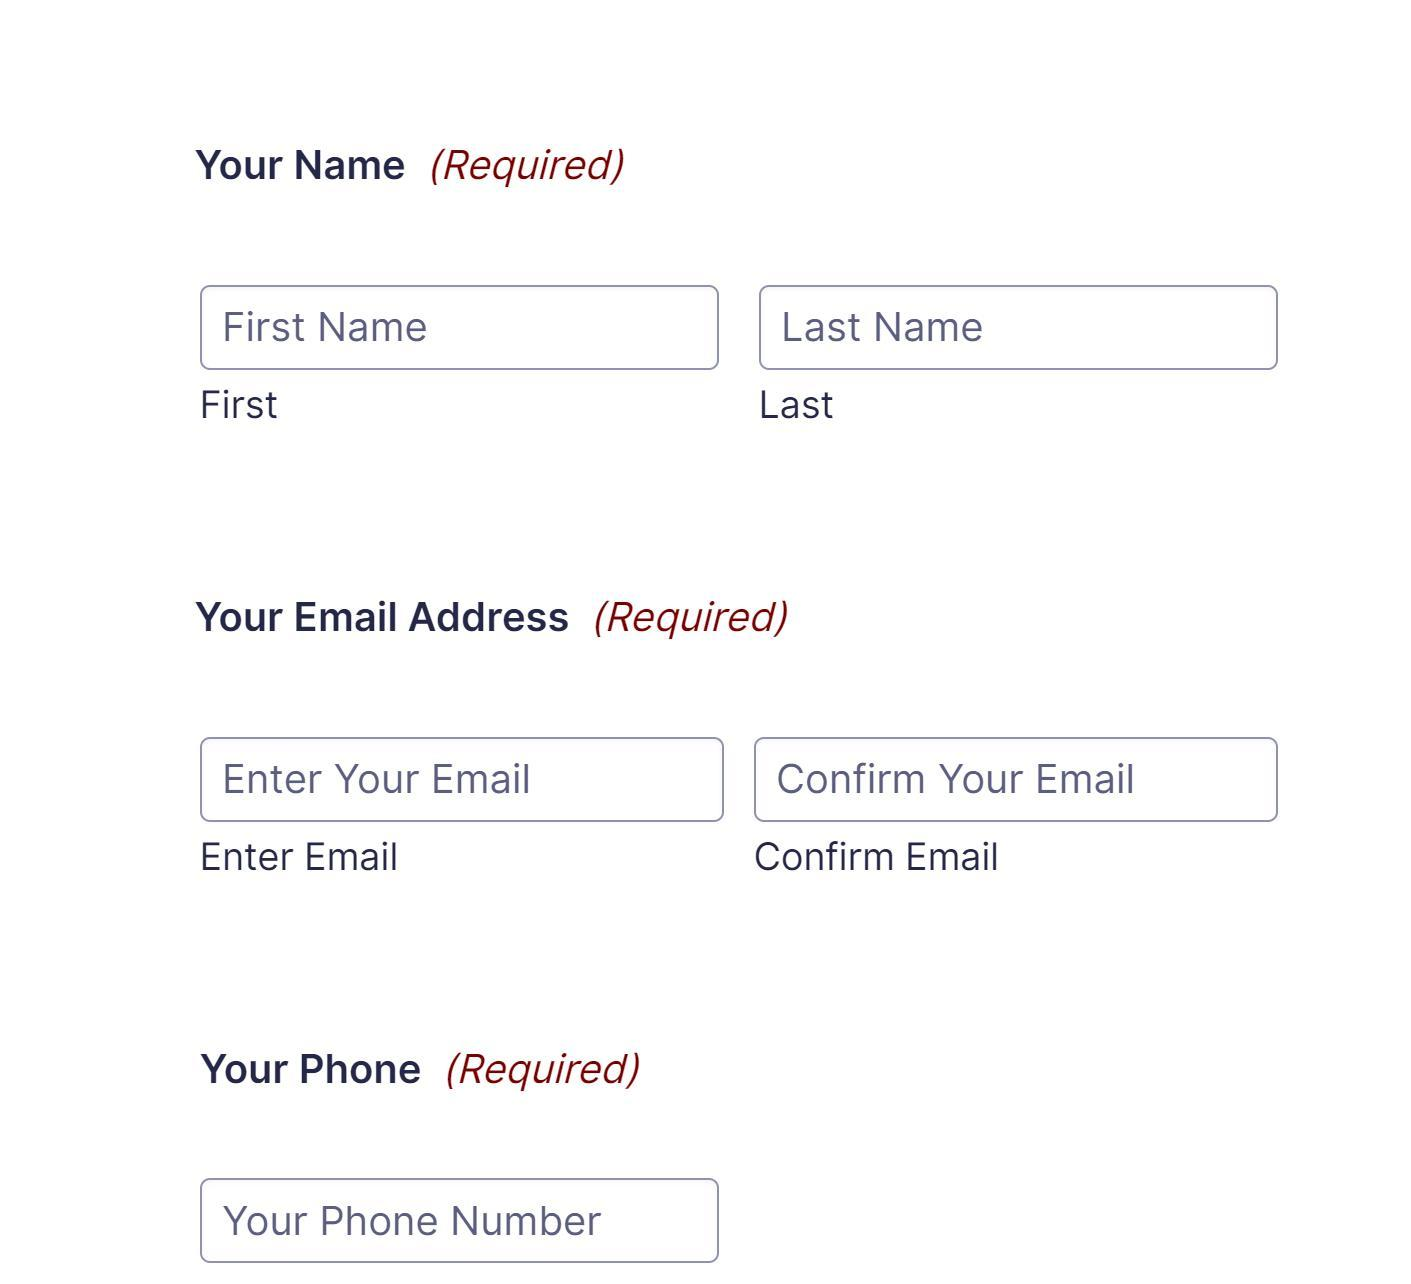input: (760, 738, 1281, 824), (202, 738, 719, 823), (205, 289, 721, 374), (203, 1181, 721, 1261), (760, 289, 1275, 367)
label: (171, 582, 808, 657), (181, 1044, 661, 1113), (177, 135, 667, 199), (749, 831, 1013, 877), (189, 837, 413, 879), (755, 378, 859, 433), (193, 378, 299, 428)
